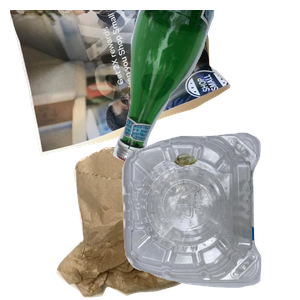glass: (109, 10, 300, 167)
paper: (10, 10, 233, 158)
plastic: (119, 130, 300, 300)
trash: (54, 147, 271, 300)
